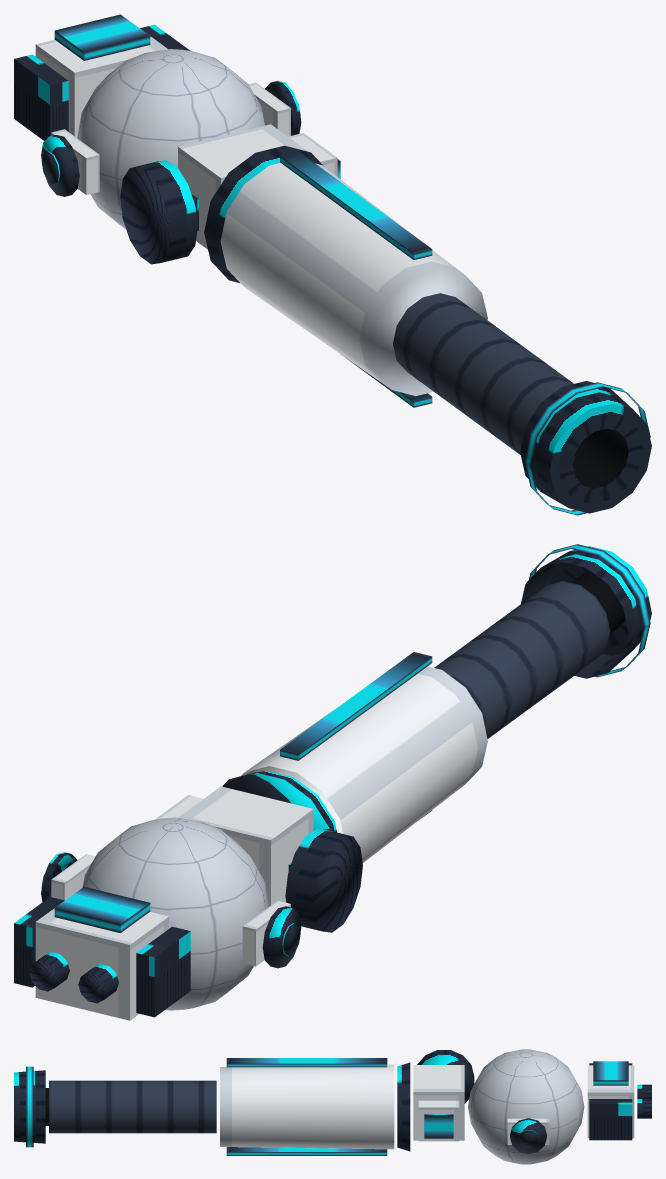
Rendered from turret_heavy_mg_rifle.obj.
3 views of the same model, one above another, from view 1: azimuth 30°, elevation 25°; view 2: azimuth 150°, elevation 25°; view 3: azimuth 270°, elevation 25° (orthographic). The views are drawn at different scales.
Parts seen in each view (by area): view 1: turret_heavy_mg_rifle; view 2: turret_heavy_mg_rifle; view 3: turret_heavy_mg_rifle.
Boxes of the visible parts, bbox=[...] form: turret_heavy_mg_rifle: bbox=[14, 14, 651, 515]; turret_heavy_mg_rifle: bbox=[14, 544, 651, 1020]; turret_heavy_mg_rifle: bbox=[14, 1049, 651, 1164].
Size of the model in its own units: 2.87 by 2 by 10.95.
1 material, 1 textured.
